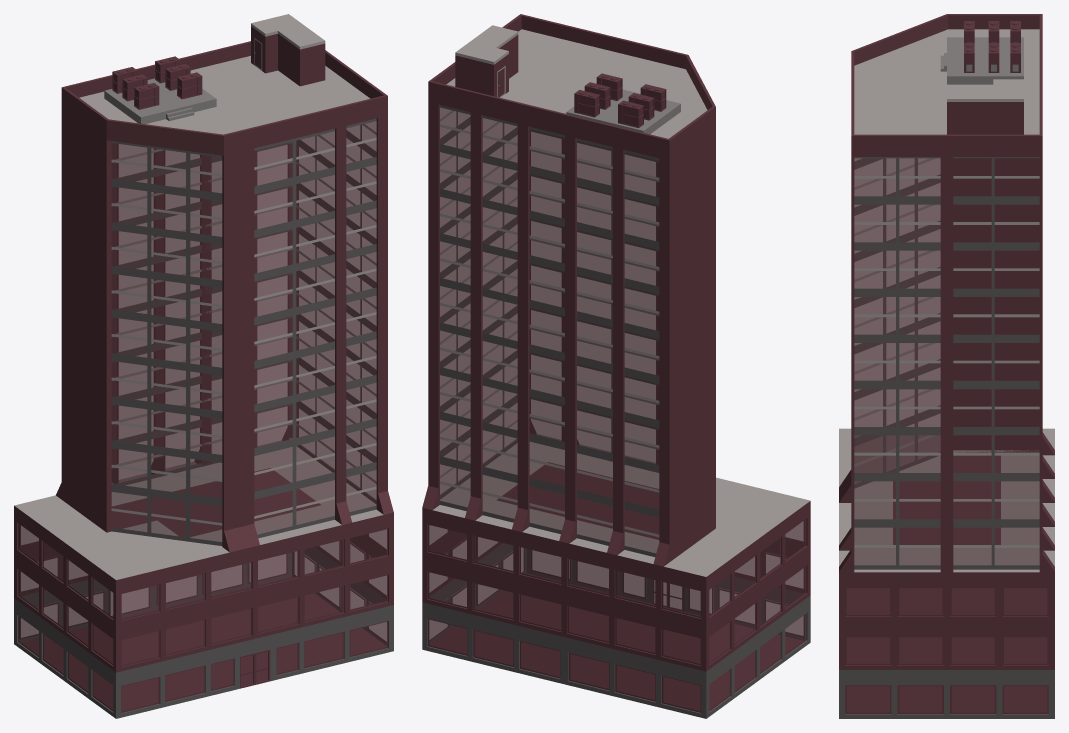
The model's file is building-office.fbx.
The picture shows the model from 3 angles, left to right: view 1: azimuth 30°, elevation 25°; view 2: azimuth 150°, elevation 25°; view 3: azimuth 270°, elevation 25°; orthographic projection. The views are drawn at different scales.
Visible parts, largest first — view 1: building-office; view 2: building-office; view 3: building-office.
Part boxes in pixels (x1=…): building-office: x1=14, y1=14, x2=393, y2=718; building-office: x1=422, y1=14, x2=810, y2=718; building-office: x1=839, y1=14, x2=1054, y2=718.
Bounding box in the file's own units: 22 × 43.7 × 14.
